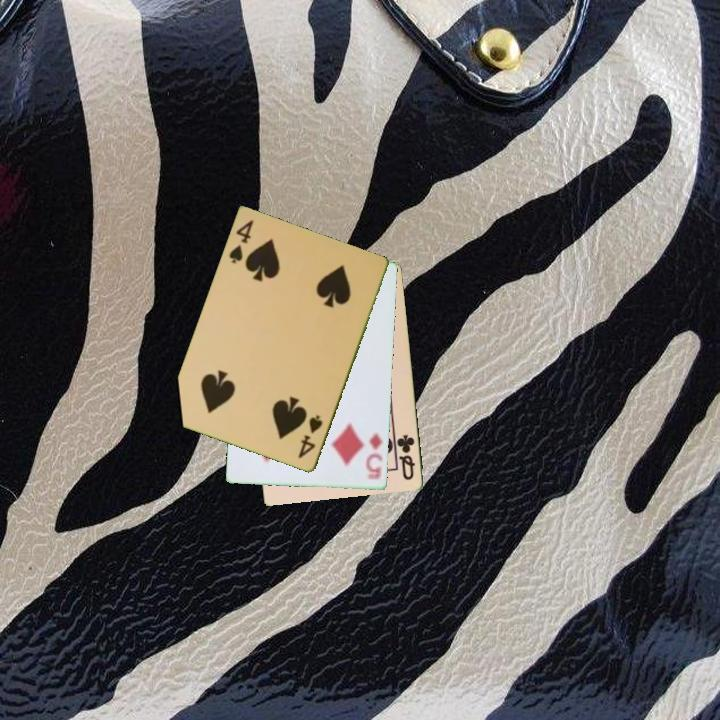4s: (225, 217, 257, 267), (295, 412, 326, 462)
5d: (363, 429, 386, 483)
Qc: (394, 431, 418, 483)
